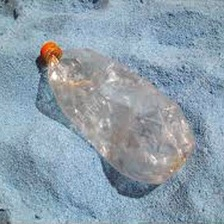bottle: (32, 34, 201, 191)
